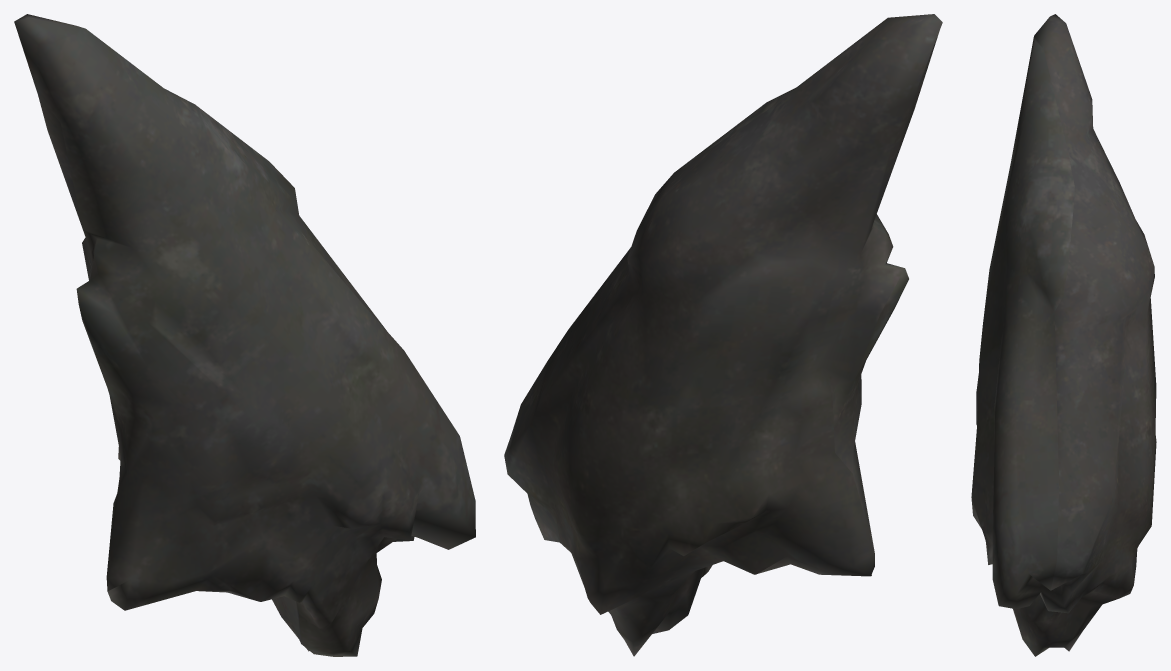
File: Cliff_W3_CraterSpike03_Top.fbx
The picture shows the model from 3 angles, left to right: view 1: azimuth 30°, elevation 25°; view 2: azimuth 150°, elevation 25°; view 3: azimuth 270°, elevation 25°; orthographic projection. The views are drawn at different scales.
Parts seen in each view (by area): view 1: SM_CraterSpike_03_Top.mo; view 2: SM_CraterSpike_03_Top.mo; view 3: SM_CraterSpike_03_Top.mo.
Boxes of the visible parts, x1,y1,x2,y2 form: SM_CraterSpike_03_Top.mo: (14, 14, 475, 656); SM_CraterSpike_03_Top.mo: (504, 14, 942, 656); SM_CraterSpike_03_Top.mo: (971, 14, 1156, 656).
Bounding box in the file's own units: 3805 × 5944 × 1882.
1 material, 1 textured.
